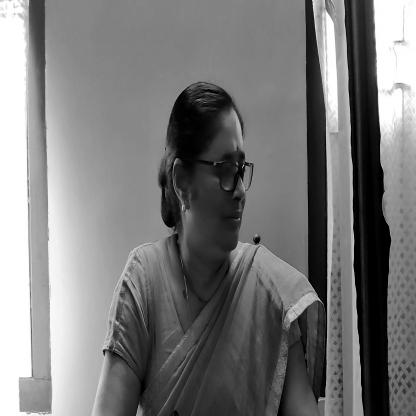Distracted: (154, 90, 256, 265)
